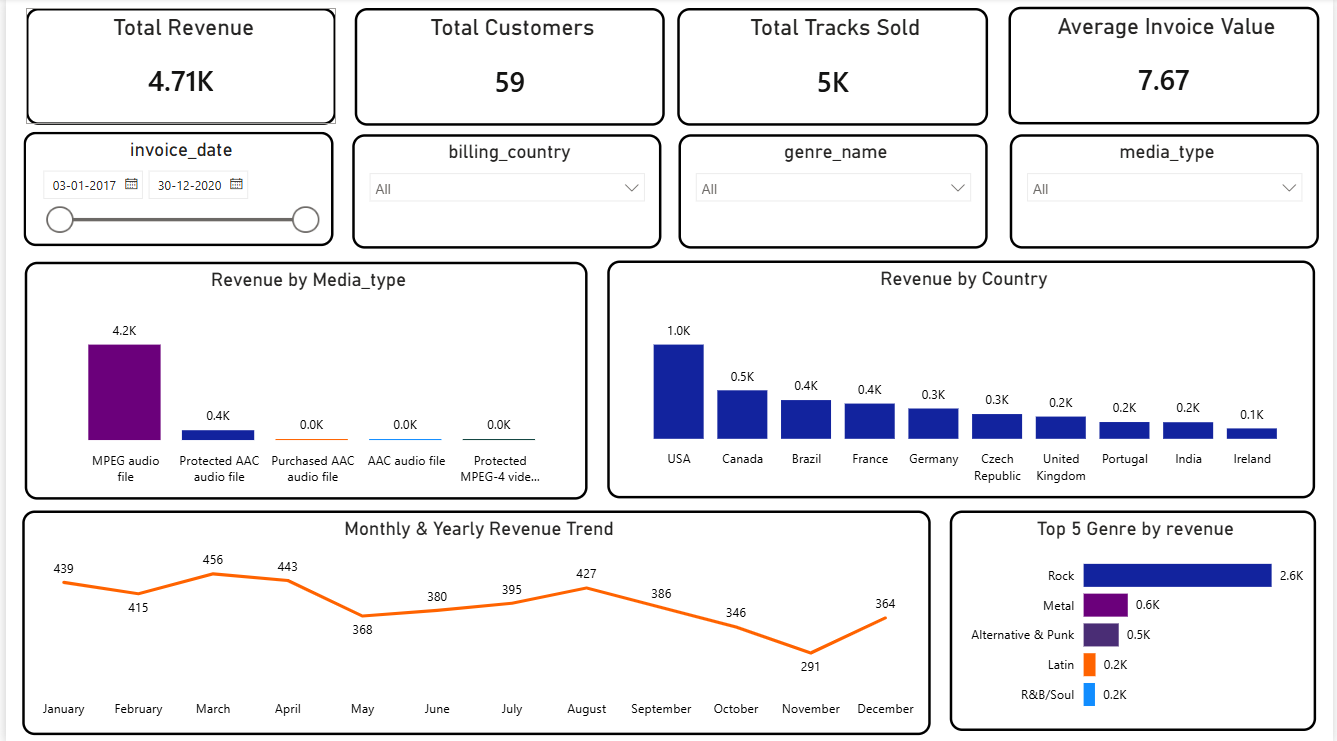

The page's visual inventory and layout, read from the dashboard file:
{"tool":"powerbi","page":{"name":"1. Executive Overview","canvas":[1280,720],"ordinal":0},"visuals":[{"type":"cardVisual","title":"Total Revenue","fields":{"Data":["invoice.Total Revenue"]},"box":[19.3,9.2,299.6,112.5],"z":0},{"type":"cardVisual","title":"Total Customers","fields":{"Data":["customer.Total Customers"]},"box":[336,9.2,299.6,113.7],"z":1000},{"type":"cardVisual","title":"Total Tracks Sold","fields":{"Data":["invoice_line.Total Tracks Sold"]},"box":[648.4,10.2,300.1,114],"z":2000},{"type":"cardVisual","title":"Average Invoice Value","fields":{"Data":["invoice.Avg Invoice Value"]},"box":[967.2,8.8,300.1,114],"z":3000},{"type":"lineChart","title":"Monthly & Yearly Revenue Trend","fields":{"Category":["invoice.invoice_date.Variation.Date Hierarchy.Year","invoice.invoice_date.Variation.Date Hierarchy.Month"],"Y":["invoice.Total Revenue"]},"box":[15.9,494.3,876.8,216.4],"z":4000},{"type":"clusteredColumnChart","title":"Revenue by Country","fields":{"Category":["invoice.billing_country"],"Y":["invoice.Total Revenue"]},"box":[580.8,253.4,683.6,229.9],"z":5000},{"type":"clusteredBarChart","title":"Top 5 Genre by revenue","fields":{"Category":["genre.name"],"Y":["invoice.Total Revenue"]},"box":[911,494.3,353.4,212.8],"z":6000},{"type":"columnChart","title":"Revenue by Media_type","fields":{"Category":["media_type.name"],"Y":["invoice.Total Revenue"]},"box":[18.3,254.6,542.9,229.9],"z":7000},{"type":"slicer","title":"billing_country","fields":{"Values":["invoice.billing_country"]},"box":[333.7,131.8,298.7,110],"z":8000},{"type":"slicer","title":"invoice_date","fields":{"Values":["invoice.invoice_date"]},"box":[17.1,129.6,299.6,110],"z":9000},{"type":"slicer","title":"genre_name","fields":{"Values":["genre.name"]},"box":[649.6,131.8,298.7,110],"z":10000},{"type":"slicer","title":"media_type","fields":{"Values":["media_type.name"]},"box":[968.5,131.8,298.7,110],"z":11000}]}

Visuals, with their boxes in screenshot pixels (x1, y1, x2, y2), scaled from the page's 1280x720 canvas onto the 1337x741 screenshot:
"Total Revenue" cardVisual: [x1=20, y1=9, x2=333, y2=125]
"Total Customers" cardVisual: [x1=351, y1=9, x2=664, y2=126]
"Total Tracks Sold" cardVisual: [x1=677, y1=10, x2=991, y2=128]
"Average Invoice Value" cardVisual: [x1=1010, y1=9, x2=1324, y2=126]
"Monthly & Yearly Revenue Trend" lineChart: [x1=17, y1=509, x2=932, y2=731]
"Revenue by Country" clusteredColumnChart: [x1=607, y1=261, x2=1321, y2=497]
"Top 5 Genre by revenue" clusteredBarChart: [x1=952, y1=509, x2=1321, y2=728]
"Revenue by Media_type" columnChart: [x1=19, y1=262, x2=586, y2=499]
"billing_country" slicer: [x1=349, y1=136, x2=661, y2=249]
"invoice_date" slicer: [x1=18, y1=133, x2=331, y2=247]
"genre_name" slicer: [x1=679, y1=136, x2=991, y2=249]
"media_type" slicer: [x1=1012, y1=136, x2=1324, y2=249]
